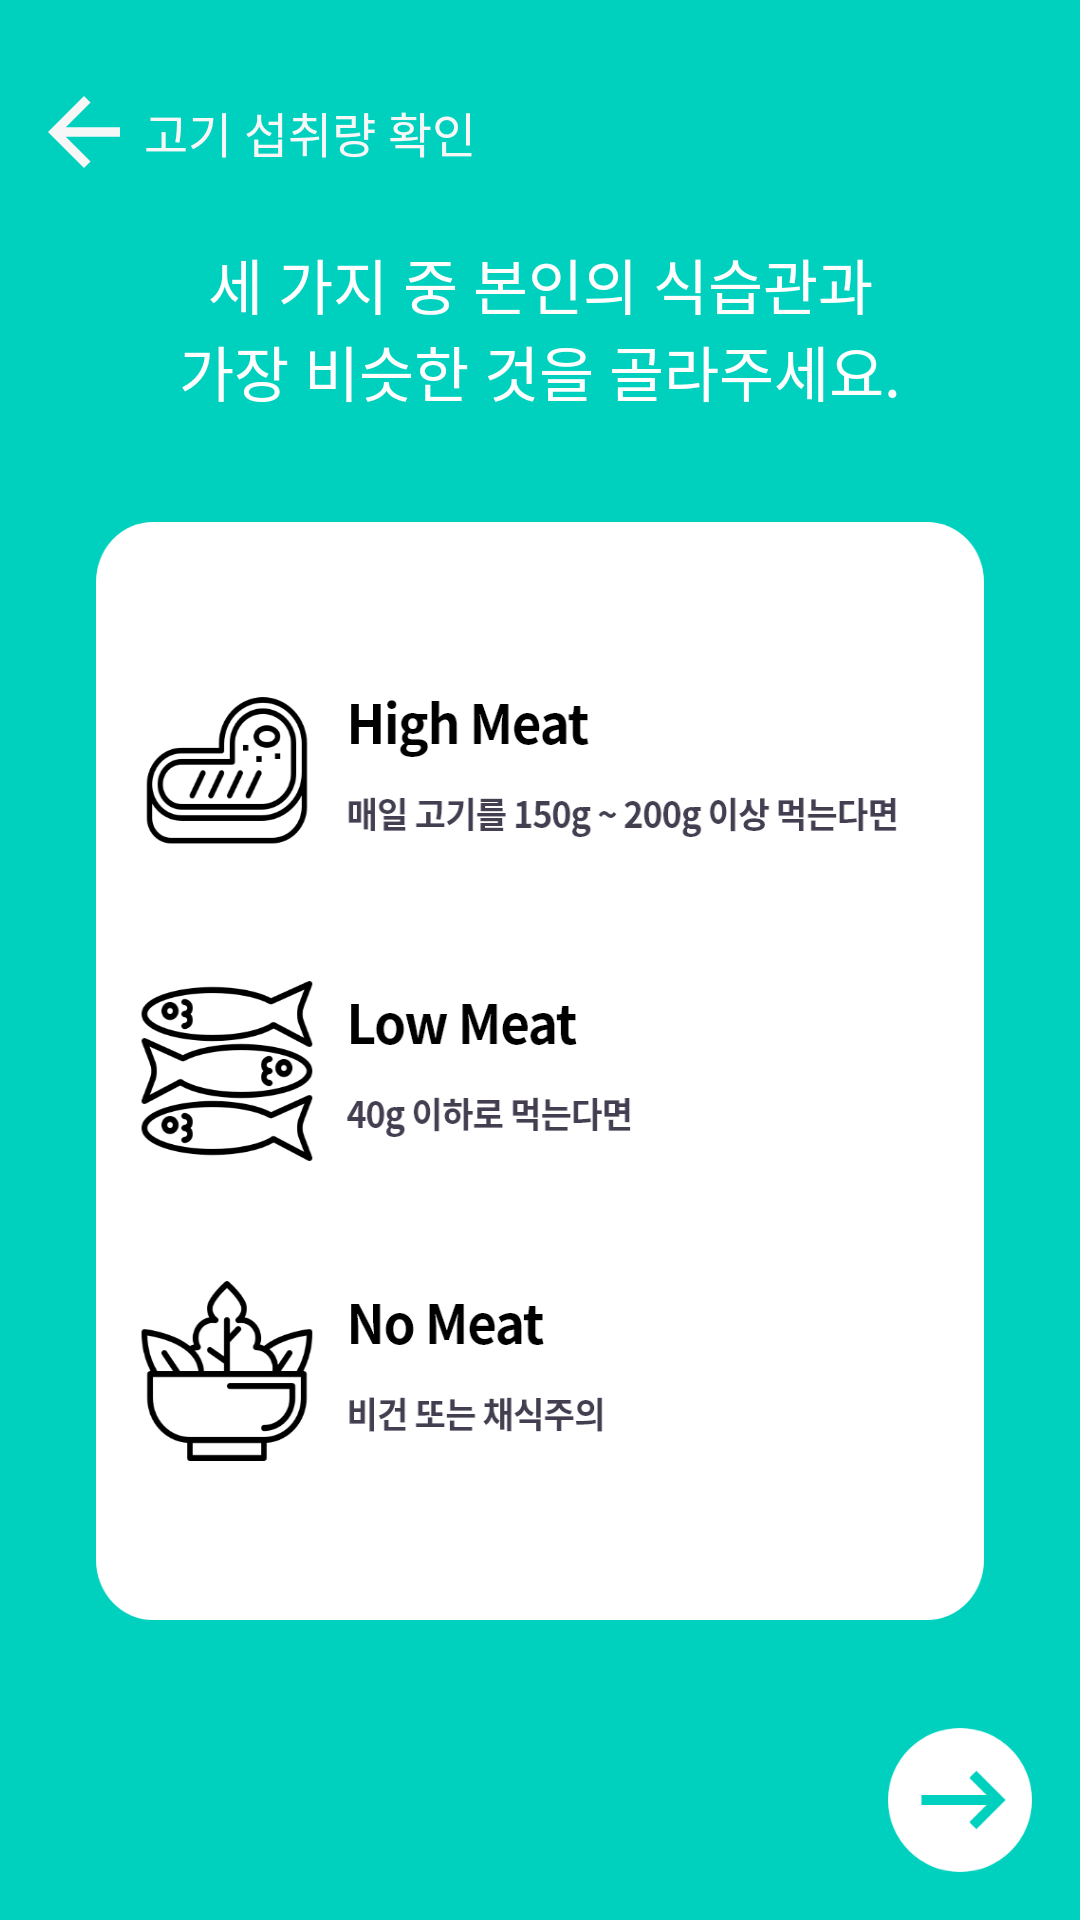

Point at icon controls on the screen. Image size 1080w x 1920h, points as (x=x, y=y).
backward arrow: (x=84, y=132)
